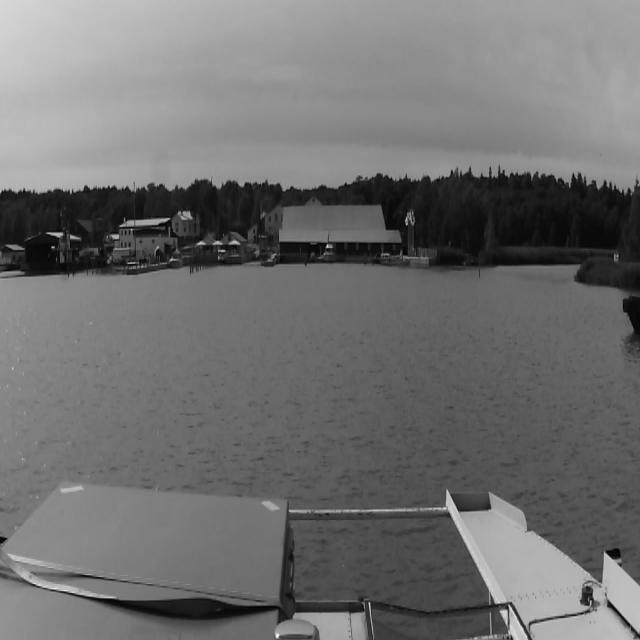ship: (386, 220, 410, 264), (324, 244, 336, 262), (169, 252, 182, 268)
